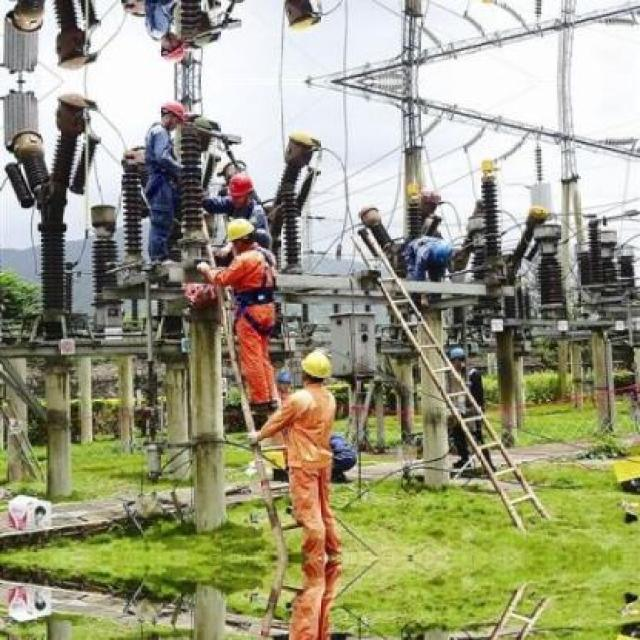helmet: (298, 350, 333, 389), (224, 211, 256, 253), (222, 169, 258, 206), (156, 30, 187, 63), (156, 101, 187, 133), (448, 346, 469, 372), (276, 368, 293, 394)
